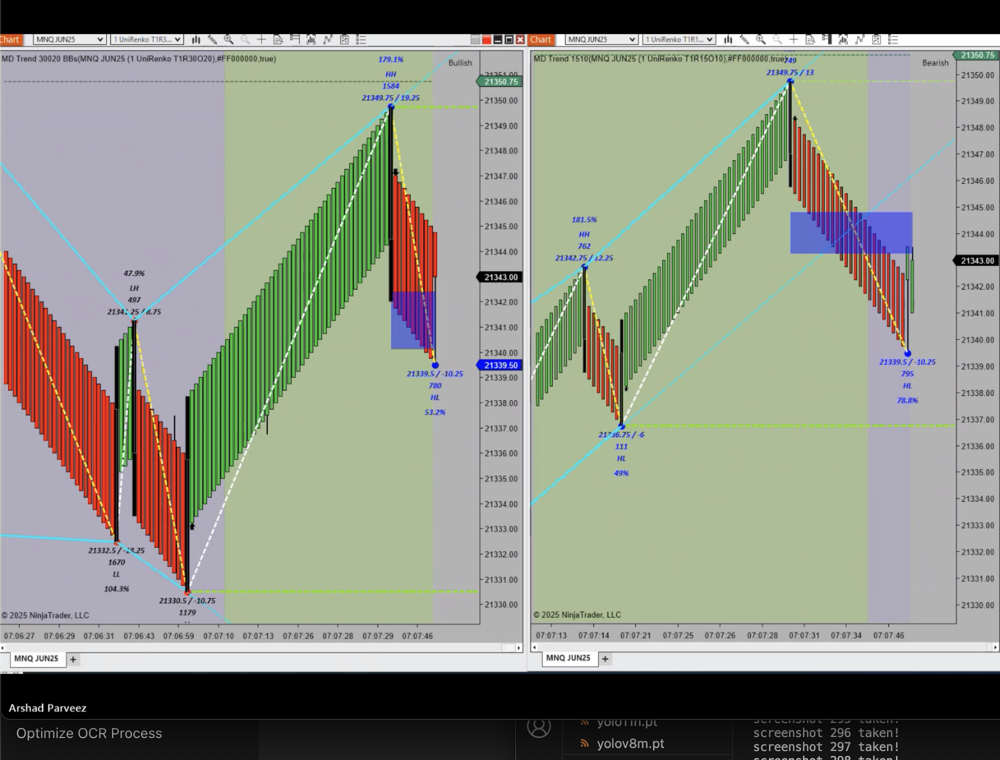HH: (573, 227, 598, 244), (381, 67, 405, 82)
HL: (427, 390, 449, 408), (899, 381, 920, 396), (613, 452, 633, 466)
LH: (125, 281, 148, 296)
LL: (107, 568, 127, 586)
